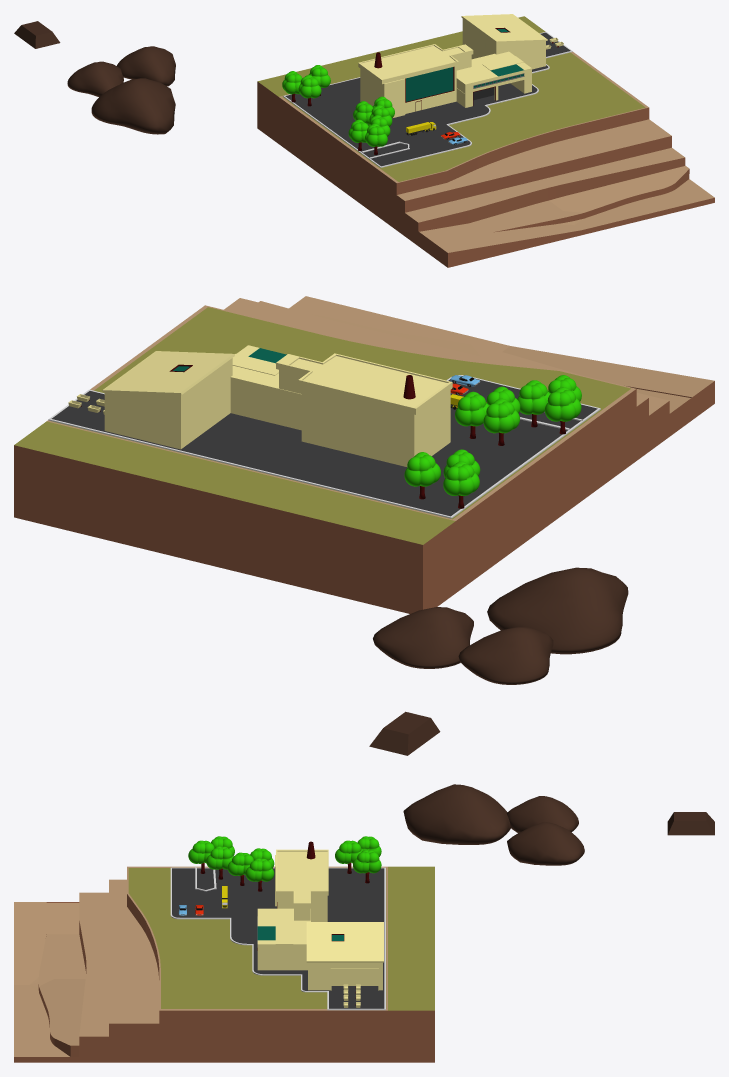
File: ExcavationPoint.glb
3 views of the same model, one above another, from view 1: azimuth 30°, elevation 25°; view 2: azimuth 150°, elevation 25°; view 3: azimuth 270°, elevation 25° (orthographic). The views are drawn at different scales.
Visible parts, largest first — view 1: ExcavationPoint; view 2: ExcavationPoint; view 3: ExcavationPoint.
Part boxes in pixels (box(x1,y1,x2,y2)): ExcavationPoint: box(14, 14, 714, 267); ExcavationPoint: box(14, 296, 714, 755); ExcavationPoint: box(14, 784, 714, 1062).
Bounding box in the file's own units: 32.73 × 7.64 × 43.74.
